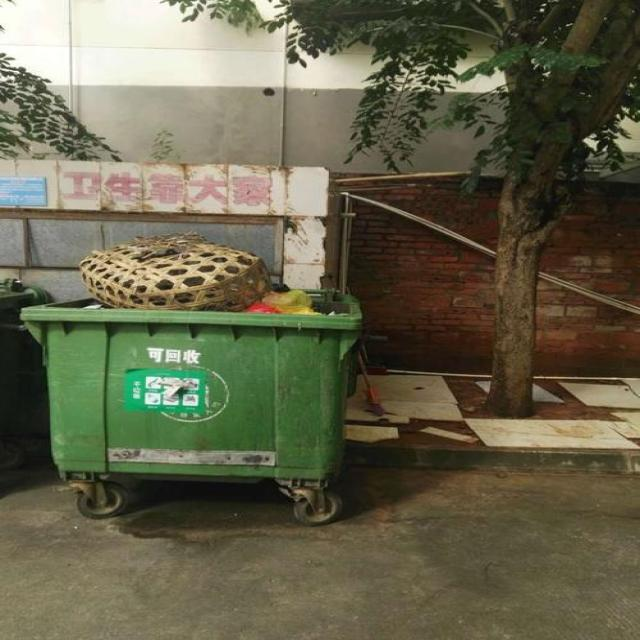overflow: (17, 230, 361, 478)
